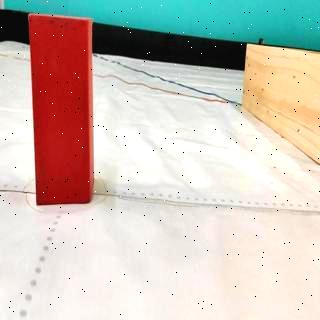redbox: (27, 12, 94, 205)
